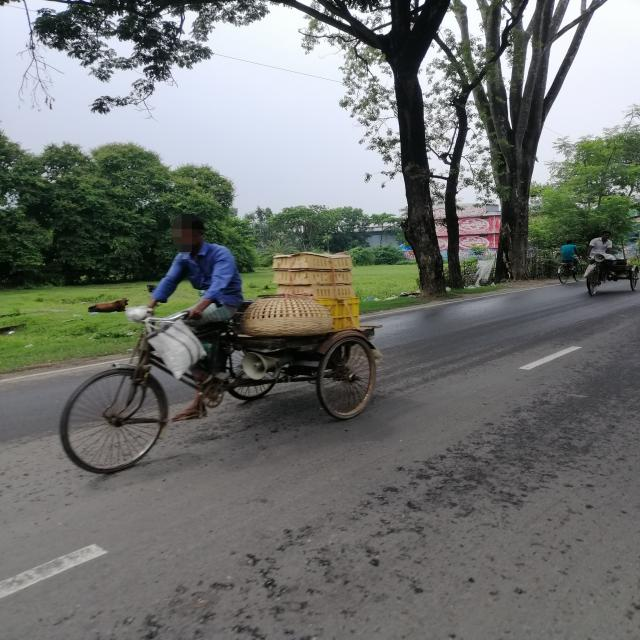Van: (26, 301, 396, 484)
